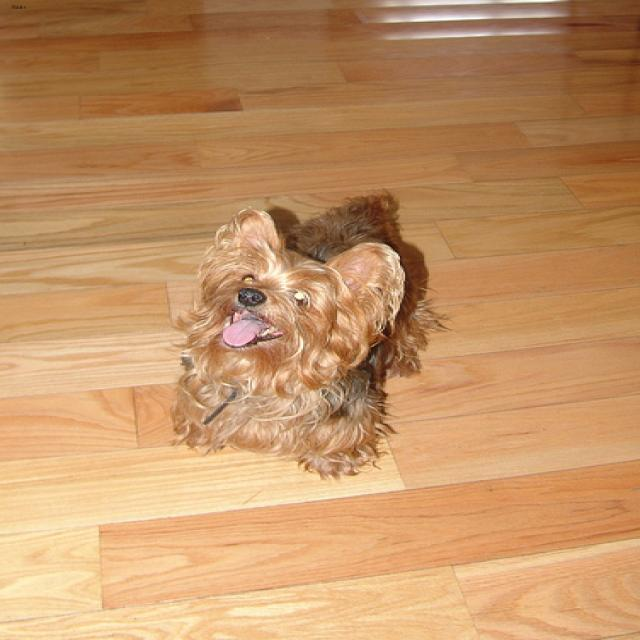dog-yorkshire_terrier: (157, 182, 449, 488)
